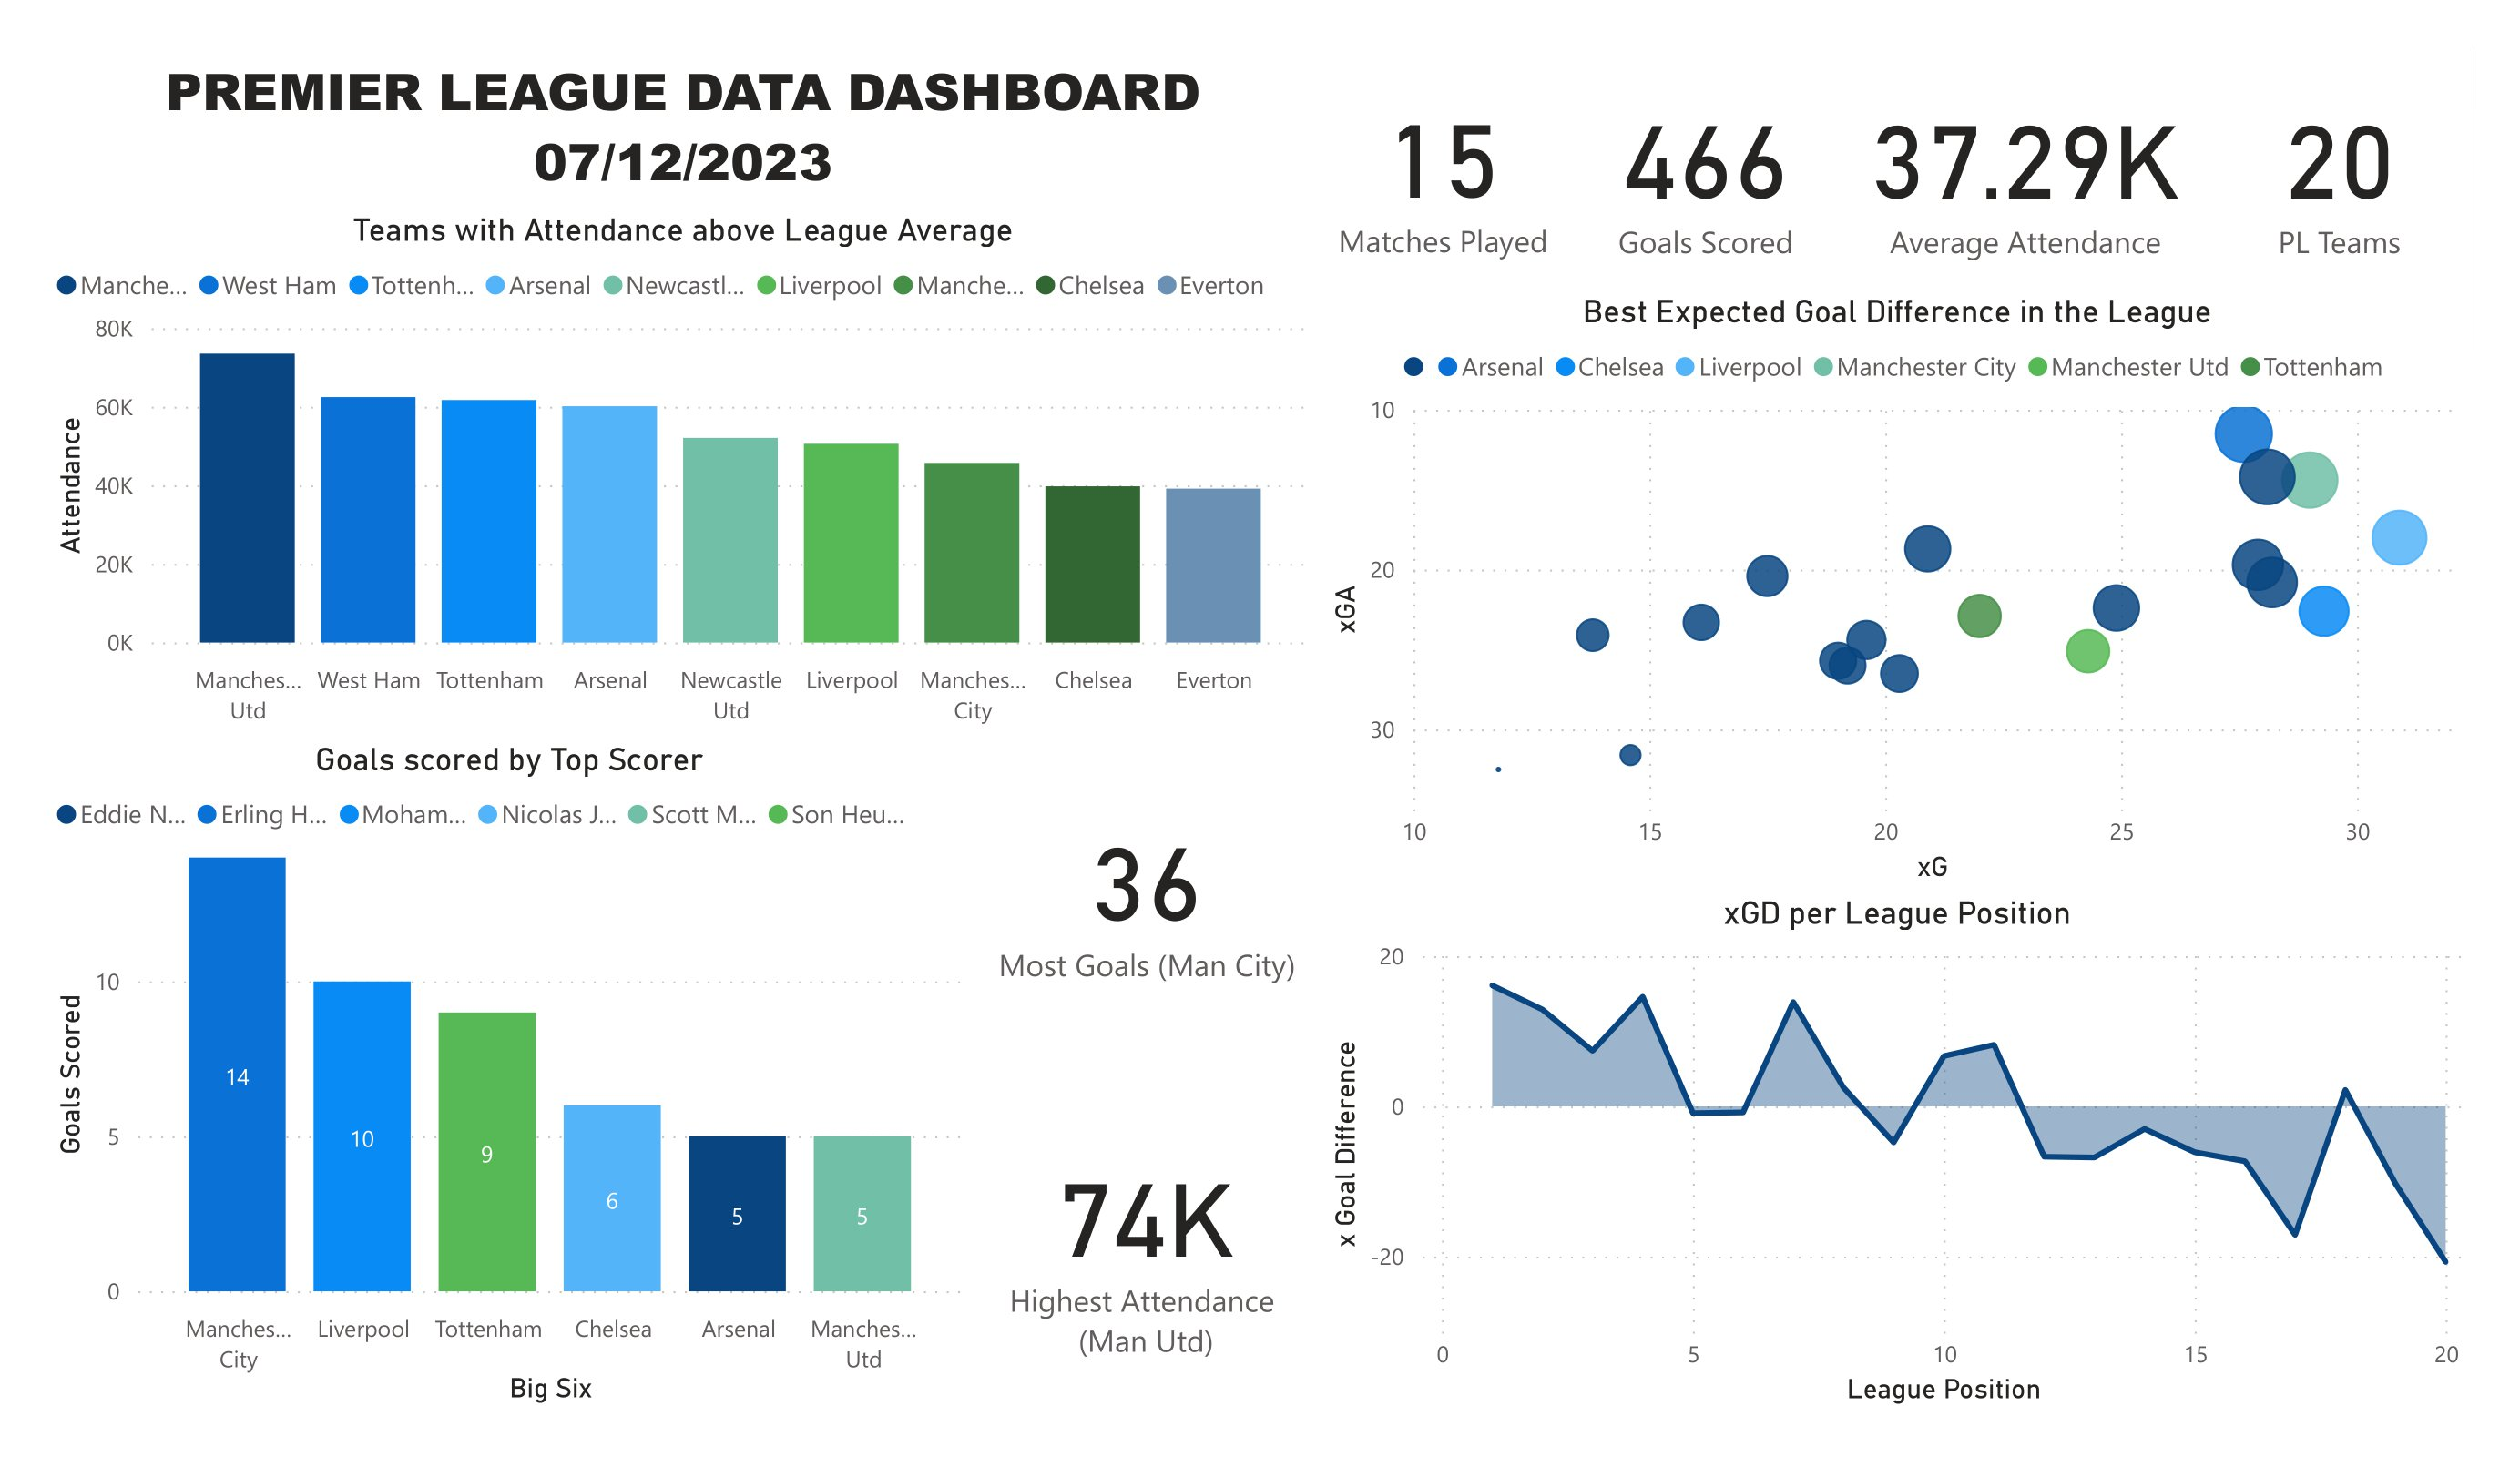

The dashboard page shown, as its layout file describes it:
{"tool":"powerbi","page":{"name":"Page 1","canvas":[1280,720],"ordinal":0},"visuals":[{"type":"card","fields":{"Values":["Clean_PL_12-07-2023.Squad"]},"box":[1137.6,0,142.6,129.6],"z":0},{"type":"textbox","box":[0,0,671.9,87.3],"z":1000},{"type":"card","fields":{"Values":["Clean_PL_12-07-2023.Attendance"]},"box":[949,0,188.6,129.6],"z":2000},{"type":"card","fields":{"Values":["Clean_PL_12-07-2023.GF"]},"box":[800.6,0,148.3,129.6],"z":3000},{"type":"scatterChart","title":"Best Expected Goal Difference in the League","fields":{"X":["Clean_PL_12-07-2023.xG"],"Series":["Clean_PL_12-07-2023.Big Six"],"Y":["Clean_PL_12-07-2023.xGA"],"Size":["Clean_PL_12-07-2023.xGD"]},"box":[672.5,129.6,607.7,316.8],"z":4000},{"type":"stackedAreaChart","title":"xGD per League Position","fields":{"Y":["Clean_PL_12-07-2023.xGD"],"Category":["Clean_PL_12-07-2023.Rk"]},"box":[671.9,446.8,608.1,273.8],"z":5000},{"type":"columnChart","title":"Goals scored by Top Scorer","fields":{"Category":["Clean_PL_12-07-2023.Big Six"],"Y":["Clean_PL_12-07-2023.Top Scorer Total"],"Series":["Clean_PL_12-07-2023.Top Team Scorer(s)"]},"box":[0,366.2,488.8,354.4],"z":6000},{"type":"card","fields":{"Values":["Clean_PL_12-07-2023.Attendance"]},"box":[488.2,525.6,184.3,194.4],"z":7000},{"type":"card","fields":{"Values":["Clean_PL_12-07-2023.GF"]},"box":[488.8,366.2,183.1,159.6],"z":8000},{"type":"columnChart","title":"Teams with Attendance above League Average","fields":{"Y":["Clean_PL_12-07-2023.Attendance"],"Category":["Clean_PL_12-07-2023.Squad"],"Series":["Clean_PL_12-07-2023.Squad"]},"box":[0,87.3,671.9,278.8],"z":9000},{"type":"card","fields":{"Values":["Clean_PL_12-07-2023.MP"]},"box":[671.9,0,129.3,129.3],"z":10000}]}

Visuals, with their boxes on the page's 1280x720 design canvas (x1, y1, x2, y2). These are canvas units, not pixel positions in the 2520x1457 screenshot, which may show the page scaled, cropped or inside an application window:
card - Clean_PL_12-07-2023.Squad: x1=1138, y1=0, x2=1280, y2=130
textbox: x1=0, y1=0, x2=672, y2=87
card - Clean_PL_12-07-2023.Attendance: x1=949, y1=0, x2=1138, y2=130
card - Clean_PL_12-07-2023.GF: x1=801, y1=0, x2=949, y2=130
"Best Expected Goal Difference in the League" scatterChart: x1=672, y1=130, x2=1280, y2=446
"xGD per League Position" stackedAreaChart: x1=672, y1=447, x2=1280, y2=721
"Goals scored by Top Scorer" columnChart: x1=0, y1=366, x2=489, y2=721
card - Clean_PL_12-07-2023.Attendance: x1=488, y1=526, x2=672, y2=720
card - Clean_PL_12-07-2023.GF: x1=489, y1=366, x2=672, y2=526
"Teams with Attendance above League Average" columnChart: x1=0, y1=87, x2=672, y2=366
card - Clean_PL_12-07-2023.MP: x1=672, y1=0, x2=801, y2=129
